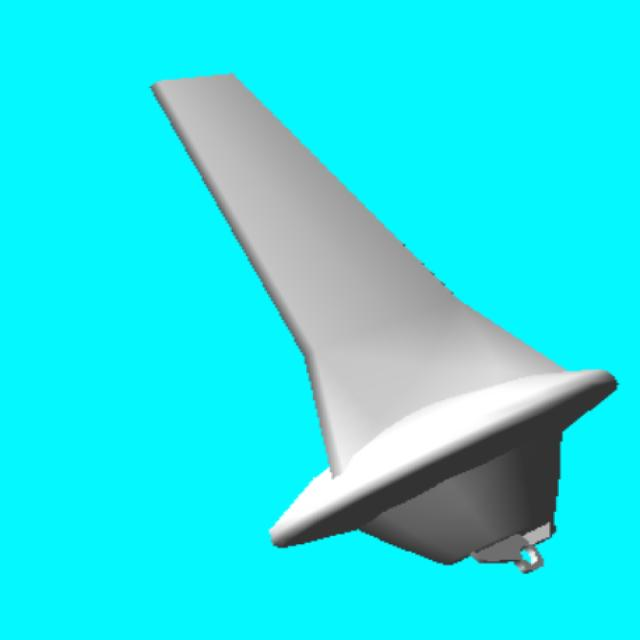WhiteBuoy: (153, 75, 614, 572)
